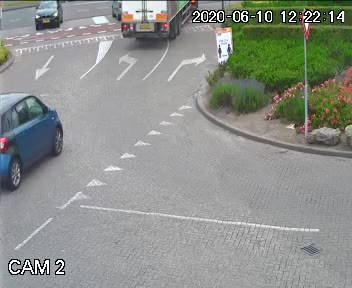car: (0, 80, 75, 198), (109, 0, 195, 56), (24, 0, 67, 30)
